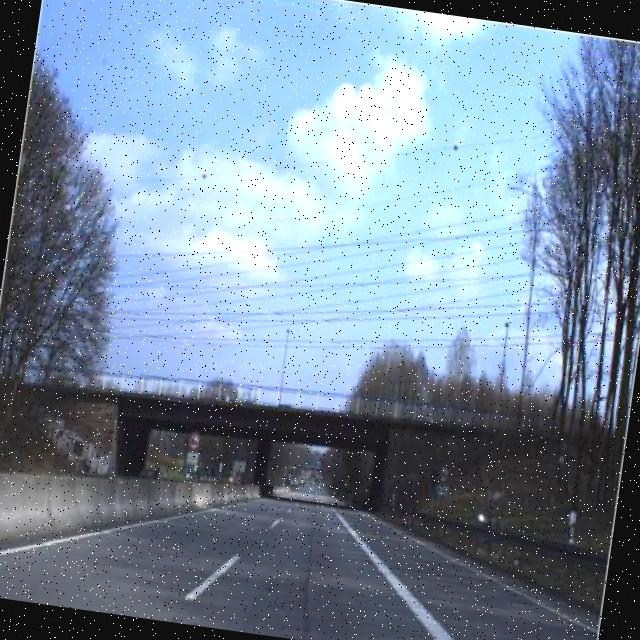Zakaz wyprzedzania: (185, 428, 204, 454), (435, 463, 452, 486)
